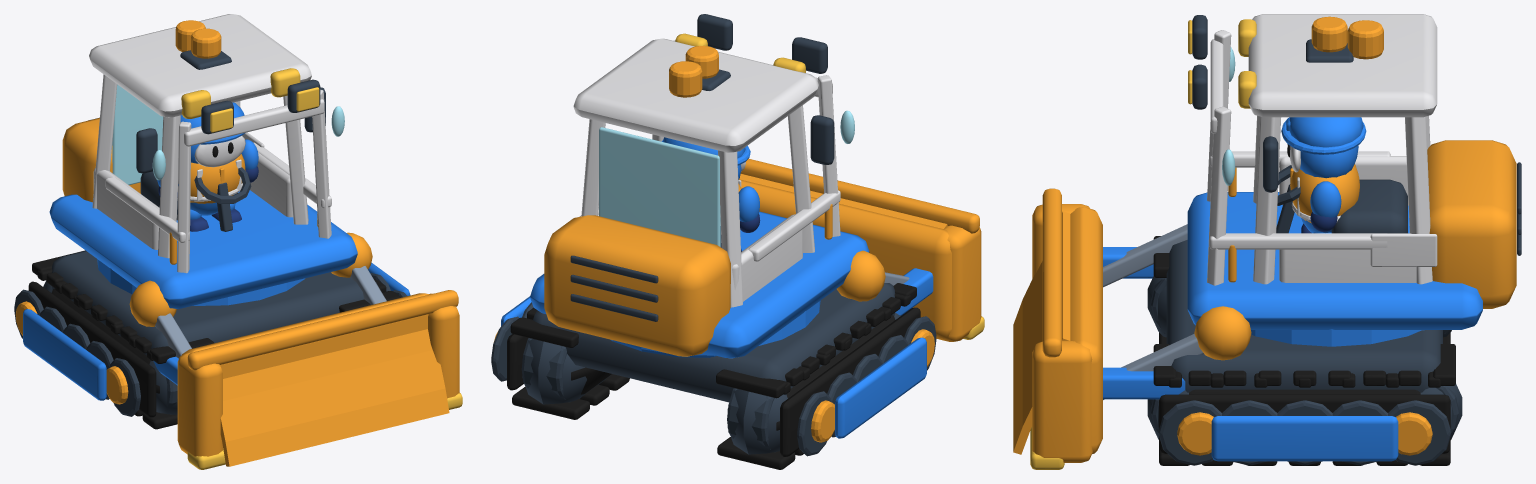
Rendered from dozer.glb.
3 renders of one model, left to right at view 1: azimuth 30°, elevation 25°; view 2: azimuth 150°, elevation 25°; view 3: azimuth 270°, elevation 25°, orthographic. The views are drawn at different scales.
Parts seen in each view (by area): view 1: orange_mesh.006, white_mesh.004, team_mesh.015, track_mesh.002, orange_mesh.004, black_mesh.003, glass_mesh.001, gold_mesh.003, steel_mesh.004, white_mesh.005, orange_mesh.005, team_mesh.016 (+1 smaller); view 2: track_mesh.002, white_mesh.004, orange_mesh.004, orange_mesh.006, team_mesh.015, black_mesh.003, glass_mesh.001, team_mesh.021, team_mesh.017, gold_mesh.003, team_mesh.016; view 3: white_mesh.004, team_mesh.015, track_mesh.002, orange_mesh.006, orange_mesh.004, black_mesh.003, team_mesh.016, steel_mesh.004, team_mesh.021, orange_mesh.005, gold_mesh.003, team_mesh.018 (+2 smaller).
Boxes of the visible parts, x1=… form: orange_mesh.006: x1=177, y1=290, x2=459, y2=466; white_mesh.004: x1=89, y1=14, x2=331, y2=273; team_mesh.015: x1=23, y1=190, x2=410, y2=400; track_mesh.002: x1=14, y1=50, x2=407, y2=416; orange_mesh.004: x1=15, y1=20, x2=372, y2=404; black_mesh.003: x1=28, y1=250, x2=400, y2=429; glass_mesh.001: x1=112, y1=84, x2=344, y2=184; gold_mesh.003: x1=181, y1=68, x2=319, y2=132; steel_mesh.004: x1=155, y1=266, x2=386, y2=358; white_mesh.005: x1=190, y1=136, x2=245, y2=201; orange_mesh.005: x1=190, y1=154, x2=245, y2=203; team_mesh.016: x1=180, y1=102, x2=244, y2=215; track_mesh.002: x1=491, y1=14, x2=936, y2=456; white_mesh.004: x1=573, y1=38, x2=840, y2=307; orange_mesh.004: x1=493, y1=45, x2=934, y2=442; orange_mesh.006: x1=739, y1=158, x2=981, y2=341; team_mesh.015: x1=501, y1=211, x2=926, y2=438; black_mesh.003: x1=507, y1=283, x2=920, y2=469; glass_mesh.001: x1=599, y1=110, x2=854, y2=246; team_mesh.021: x1=895, y1=268, x2=933, y2=315; team_mesh.017: x1=738, y1=186, x2=759, y2=222; gold_mesh.003: x1=675, y1=33, x2=805, y2=72; team_mesh.016: x1=662, y1=137, x2=750, y2=179; white_mesh.004: x1=1207, y1=14, x2=1437, y2=285; team_mesh.015: x1=1187, y1=192, x2=1482, y2=461; track_mesh.002: x1=1147, y1=15, x2=1521, y2=465; orange_mesh.006: x1=1013, y1=188, x2=1102, y2=462; orange_mesh.004: x1=1177, y1=16, x2=1516, y2=455; black_mesh.003: x1=1153, y1=236, x2=1455, y2=465; team_mesh.016: x1=1281, y1=117, x2=1366, y2=233; steel_mesh.004: x1=1103, y1=224, x2=1203, y2=399; team_mesh.021: x1=1103, y1=247, x2=1185, y2=399; orange_mesh.005: x1=1290, y1=164, x2=1359, y2=223; gold_mesh.003: x1=1188, y1=19, x2=1256, y2=108; team_mesh.018: x1=1310, y1=181, x2=1341, y2=217.
Size of the model in its own units: 2.25 by 2.16 by 2.67.
